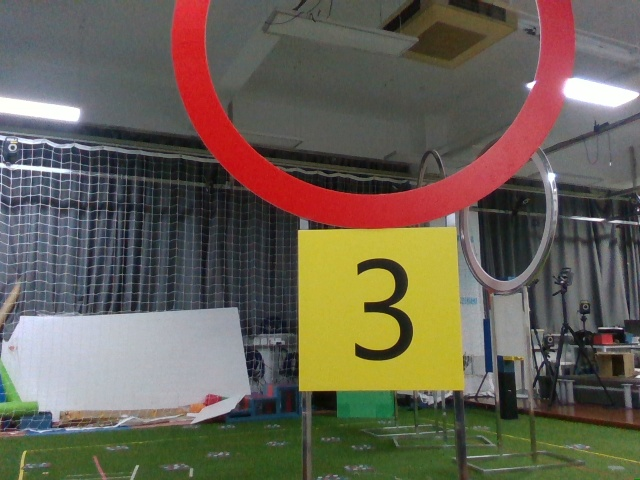target: (295, 233, 464, 389)
